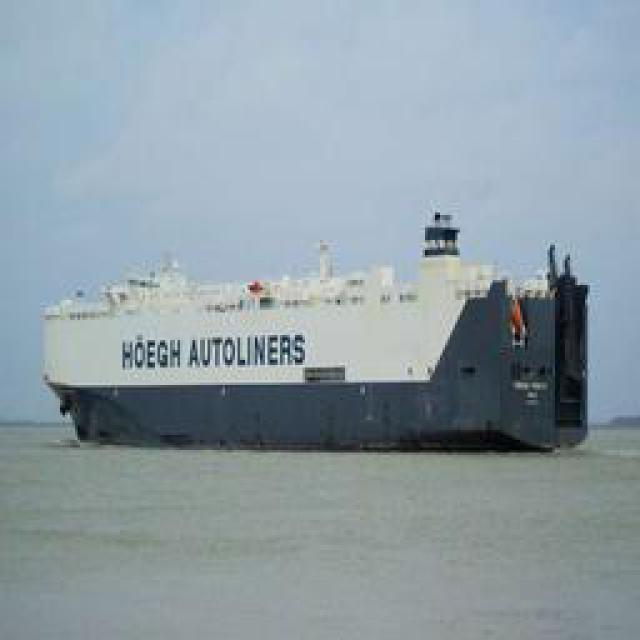Ship: (38, 197, 586, 450)
